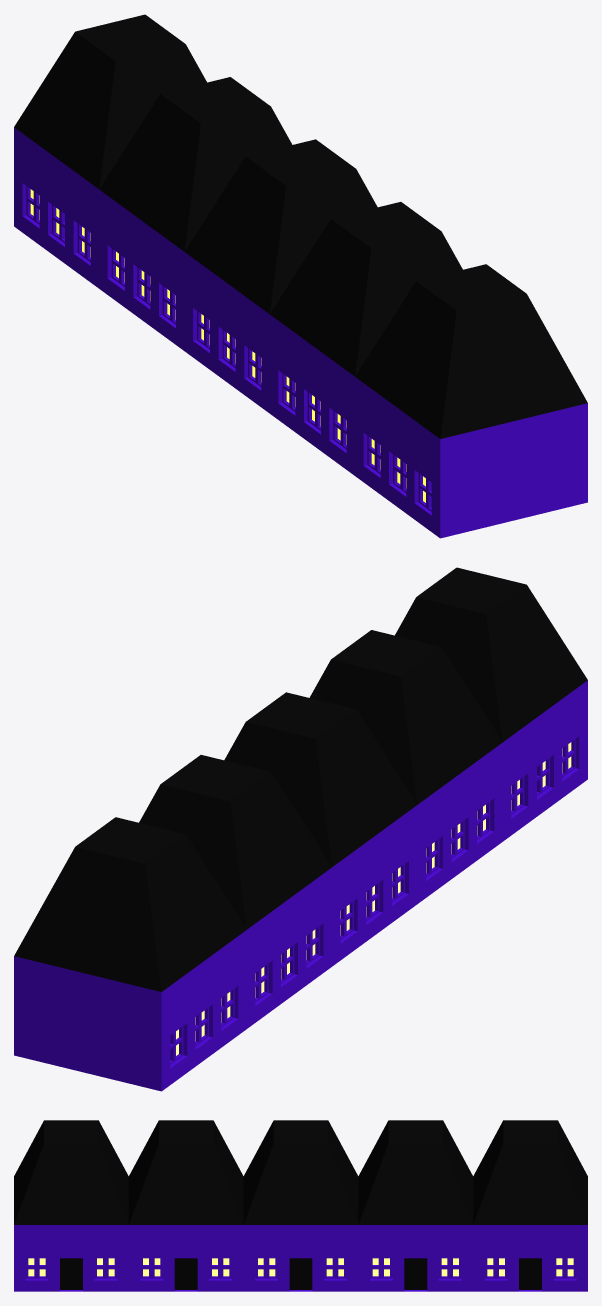
File: bungalows_1(5).fbx
3 views of the same model, one above another, from view 1: azimuth 30°, elevation 25°; view 2: azimuth 150°, elevation 25°; view 3: azimuth 270°, elevation 25° (orthographic). The views are drawn at different scales.
Parts seen in each view (by area): view 1: Cube; view 2: Cube; view 3: Cube.
Boxes of the visible parts, bbox=[...] form: Cube: bbox=[14, 14, 587, 538]; Cube: bbox=[14, 567, 587, 1091]; Cube: bbox=[14, 1120, 587, 1291].
Size of the model in its own units: 28 by 36.56 by 140.
